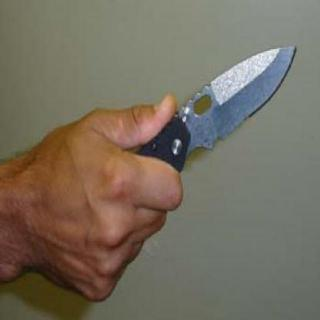knife: (116, 33, 303, 179)
